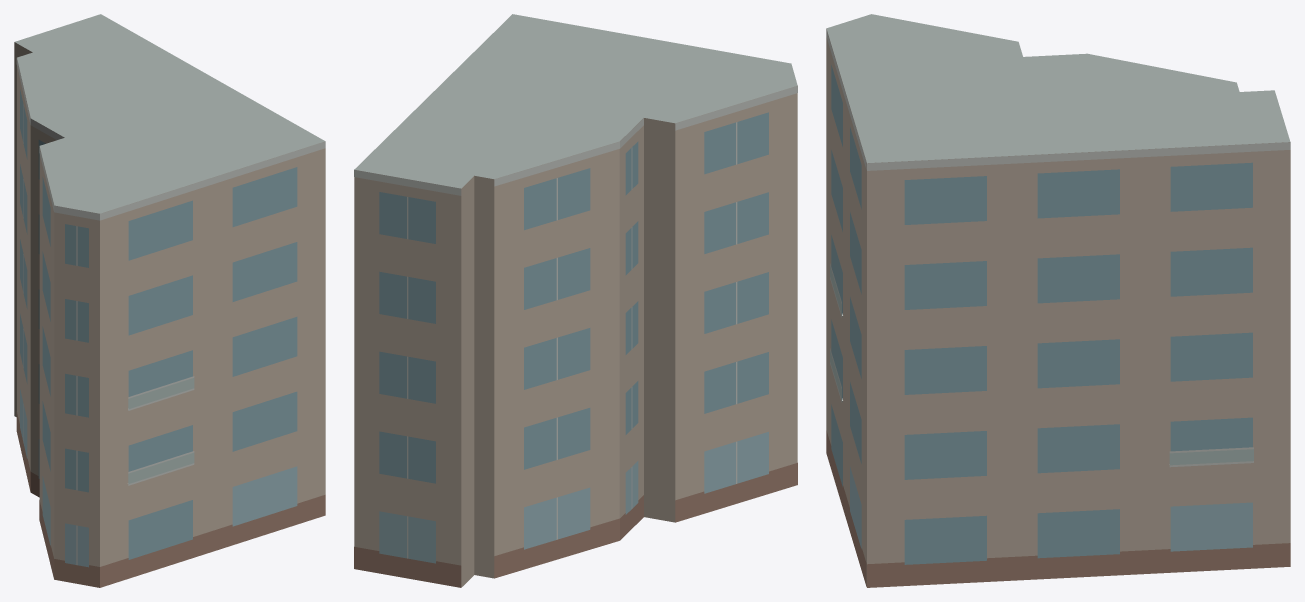
Rendered from survey-upis-32524305.glb.
3 views of the same model, side by side, from view 1: azimuth 30°, elevation 25°; view 2: azimuth 150°, elevation 25°; view 3: azimuth 270°, elevation 25° (orthographic). The views are drawn at different scales.
Visible parts, largest first — view 1: survey-upis-32524305.tmp; view 2: survey-upis-32524305.tmp; view 3: survey-upis-32524305.tmp.
Boxes of the visible parts, x1,y1,x2,y2 form: survey-upis-32524305.tmp: [14, 14, 325, 587]; survey-upis-32524305.tmp: [354, 14, 797, 587]; survey-upis-32524305.tmp: [826, 14, 1290, 587].
Bounding box in the file's own units: 9.97 × 13.23 × 13.11.
